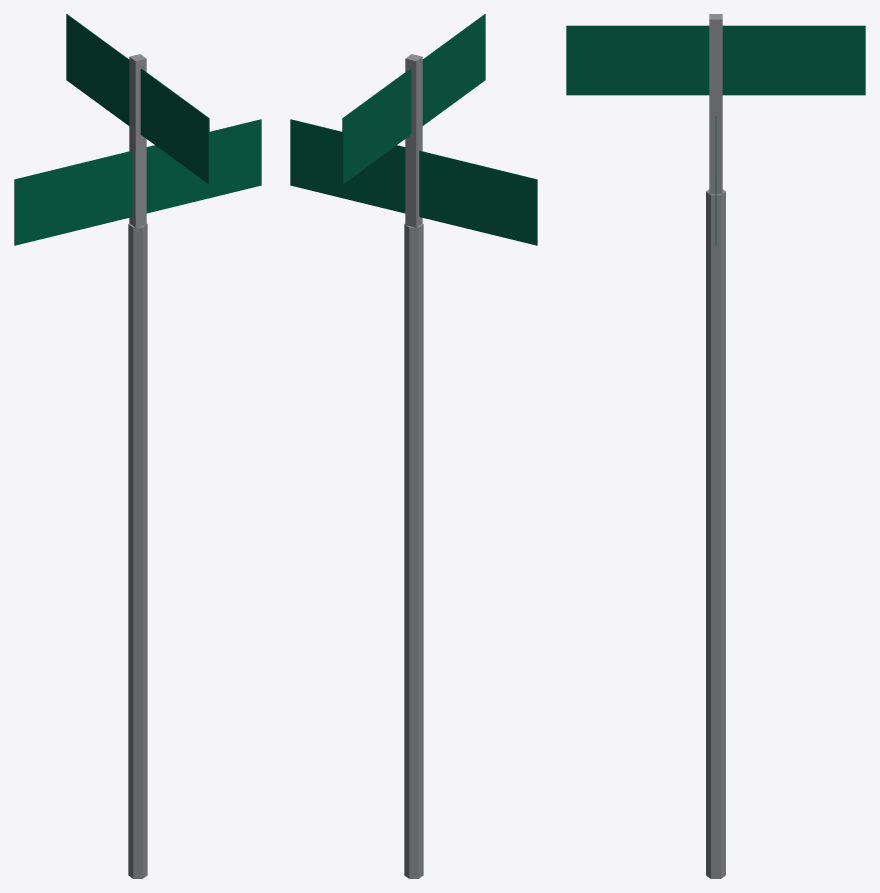
The model's file is tf_street_name_sign_lod1.glb.
The picture shows the model from 3 angles, left to right: view 1: azimuth 30°, elevation 25°; view 2: azimuth 150°, elevation 25°; view 3: azimuth 270°, elevation 25°; orthographic projection. The views are drawn at different scales.
Parts seen in each view (by area): view 1: blade_A_plate, post, blade_B_plate, bracket_lod; view 2: blade_A_plate, post, blade_B_plate, bracket_lod; view 3: blade_B_plate, post, bracket_lod.
Boxes of the visible parts, bbox=[...] form: blade_A_plate: bbox=[14, 119, 261, 245]; post: bbox=[128, 223, 147, 878]; blade_B_plate: bbox=[66, 14, 209, 184]; bracket_lod: bbox=[129, 54, 146, 227]; blade_A_plate: bbox=[290, 119, 537, 245]; post: bbox=[404, 223, 423, 878]; blade_B_plate: bbox=[342, 14, 485, 184]; bracket_lod: bbox=[405, 54, 422, 227]; blade_B_plate: bbox=[566, 25, 865, 95]; post: bbox=[706, 189, 725, 878]; bracket_lod: bbox=[709, 14, 722, 194].
Size of what is drawn, in the model's own units: 0.9 by 2.85 by 0.9.
